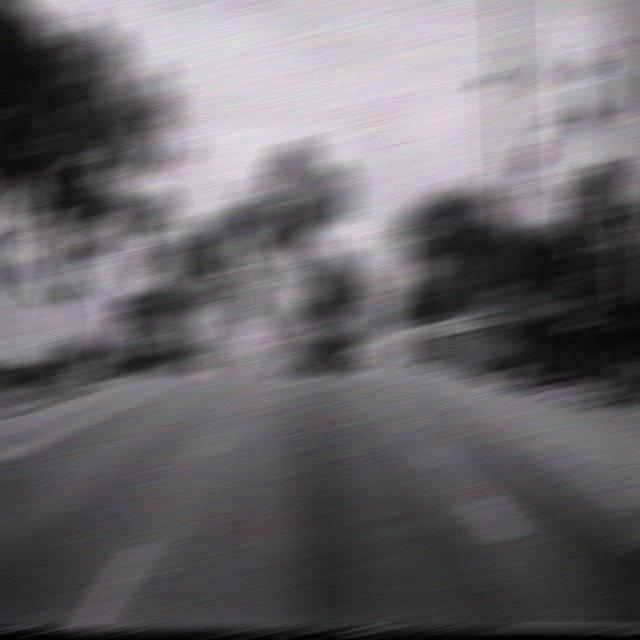stop_sign: (410, 259, 440, 288), (178, 308, 206, 332)
